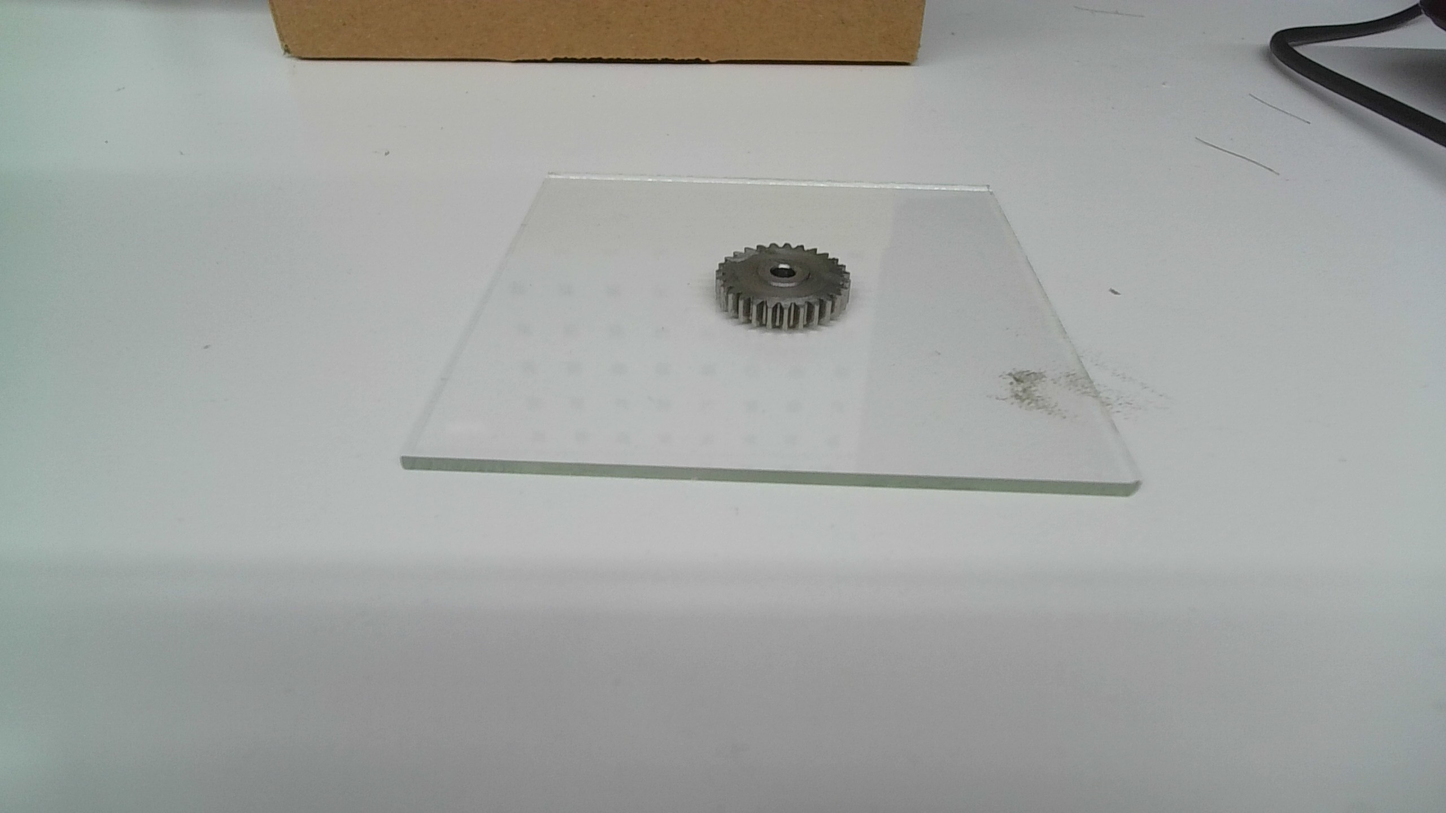gear: (713, 239, 852, 333)
